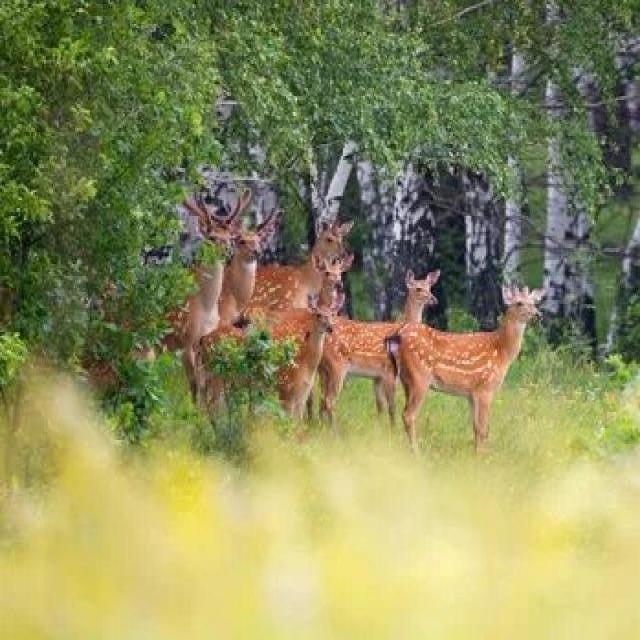deer: (368, 245, 590, 458), (220, 217, 282, 300)
